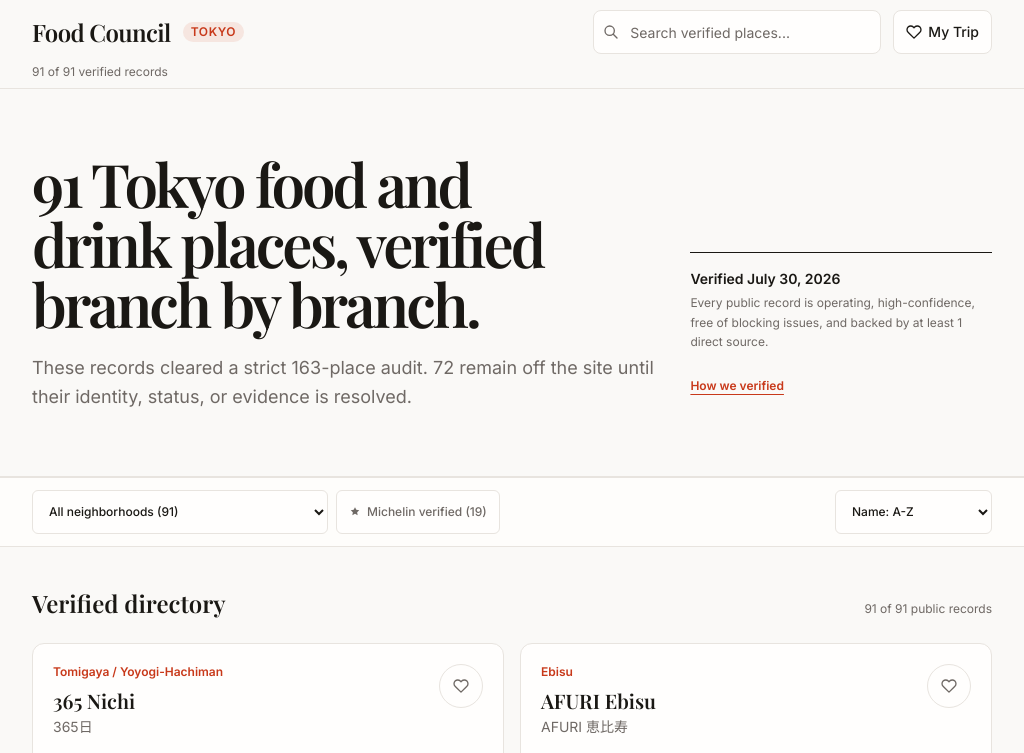
Scenario: verified filter state › filters by neighborhood and only enables possible Michelin combinations
Expected: the text "91 of 91 verified records" is shown, [32,64,168,80]
Select "Ginza (9)" in the 1st dropdown named "Neighborhood" at (180, 512), box [32,490,328,534]
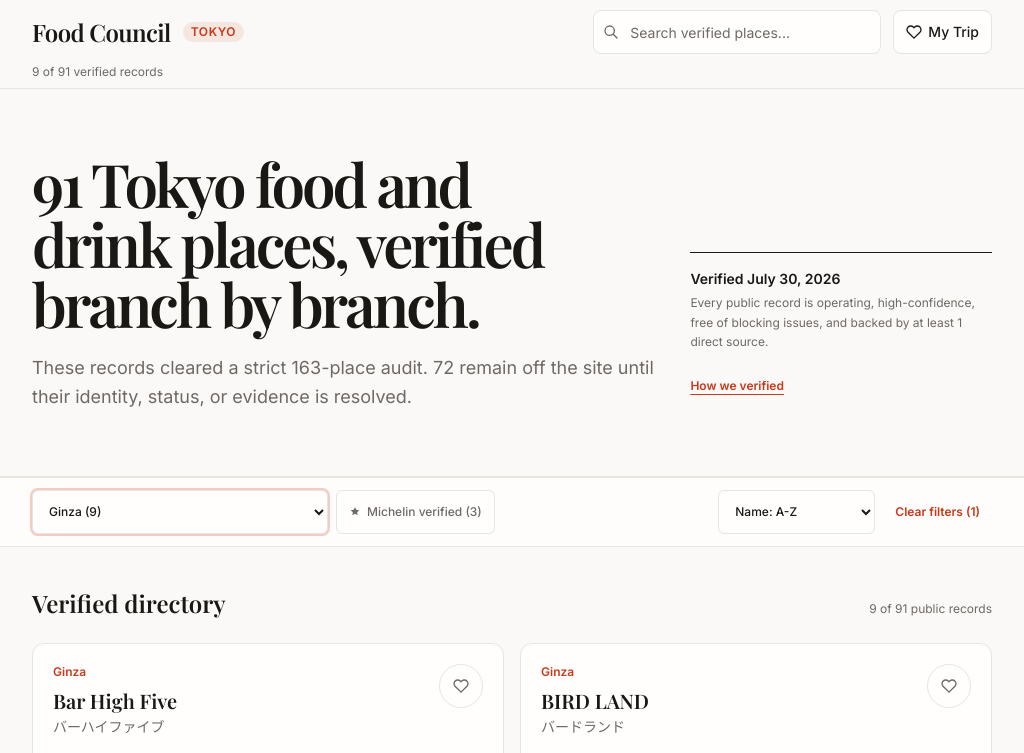
Now the text "9 of 91 verified records" is shown, box [32,64,163,80]
Click the button "Michelin verified (3)" at (415, 512), box [336,490,495,534]
(page scrolled)
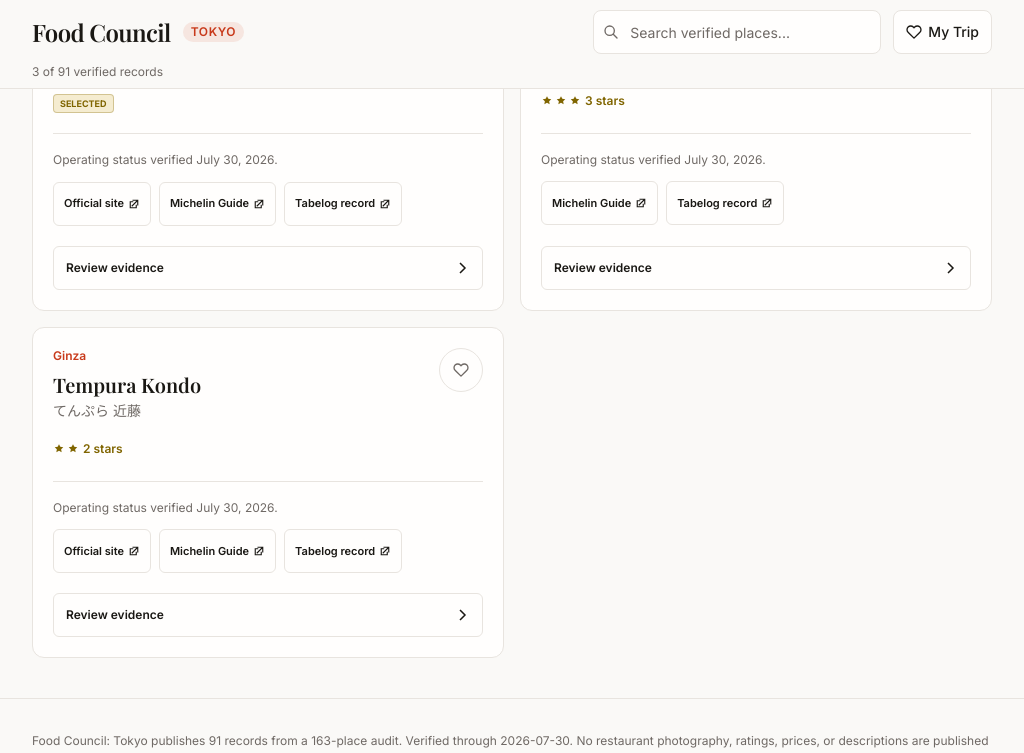
Expected: the heading "Tempura Kondo" is shown, [53,372,201,396]
Now the text "3 of 91 verified records" is shown, box [32,64,163,80]
